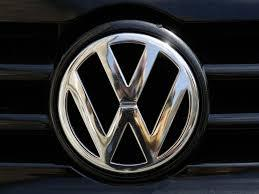volkswagen: (42, 0, 224, 191)
